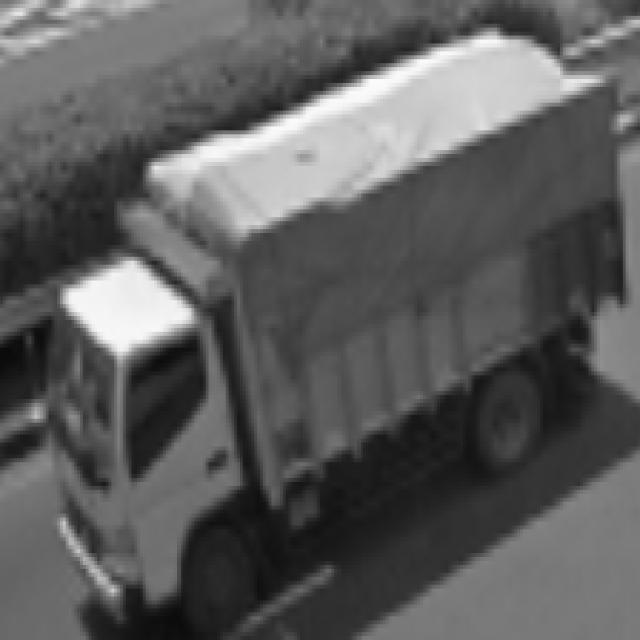truck: (22, 248, 275, 632)
